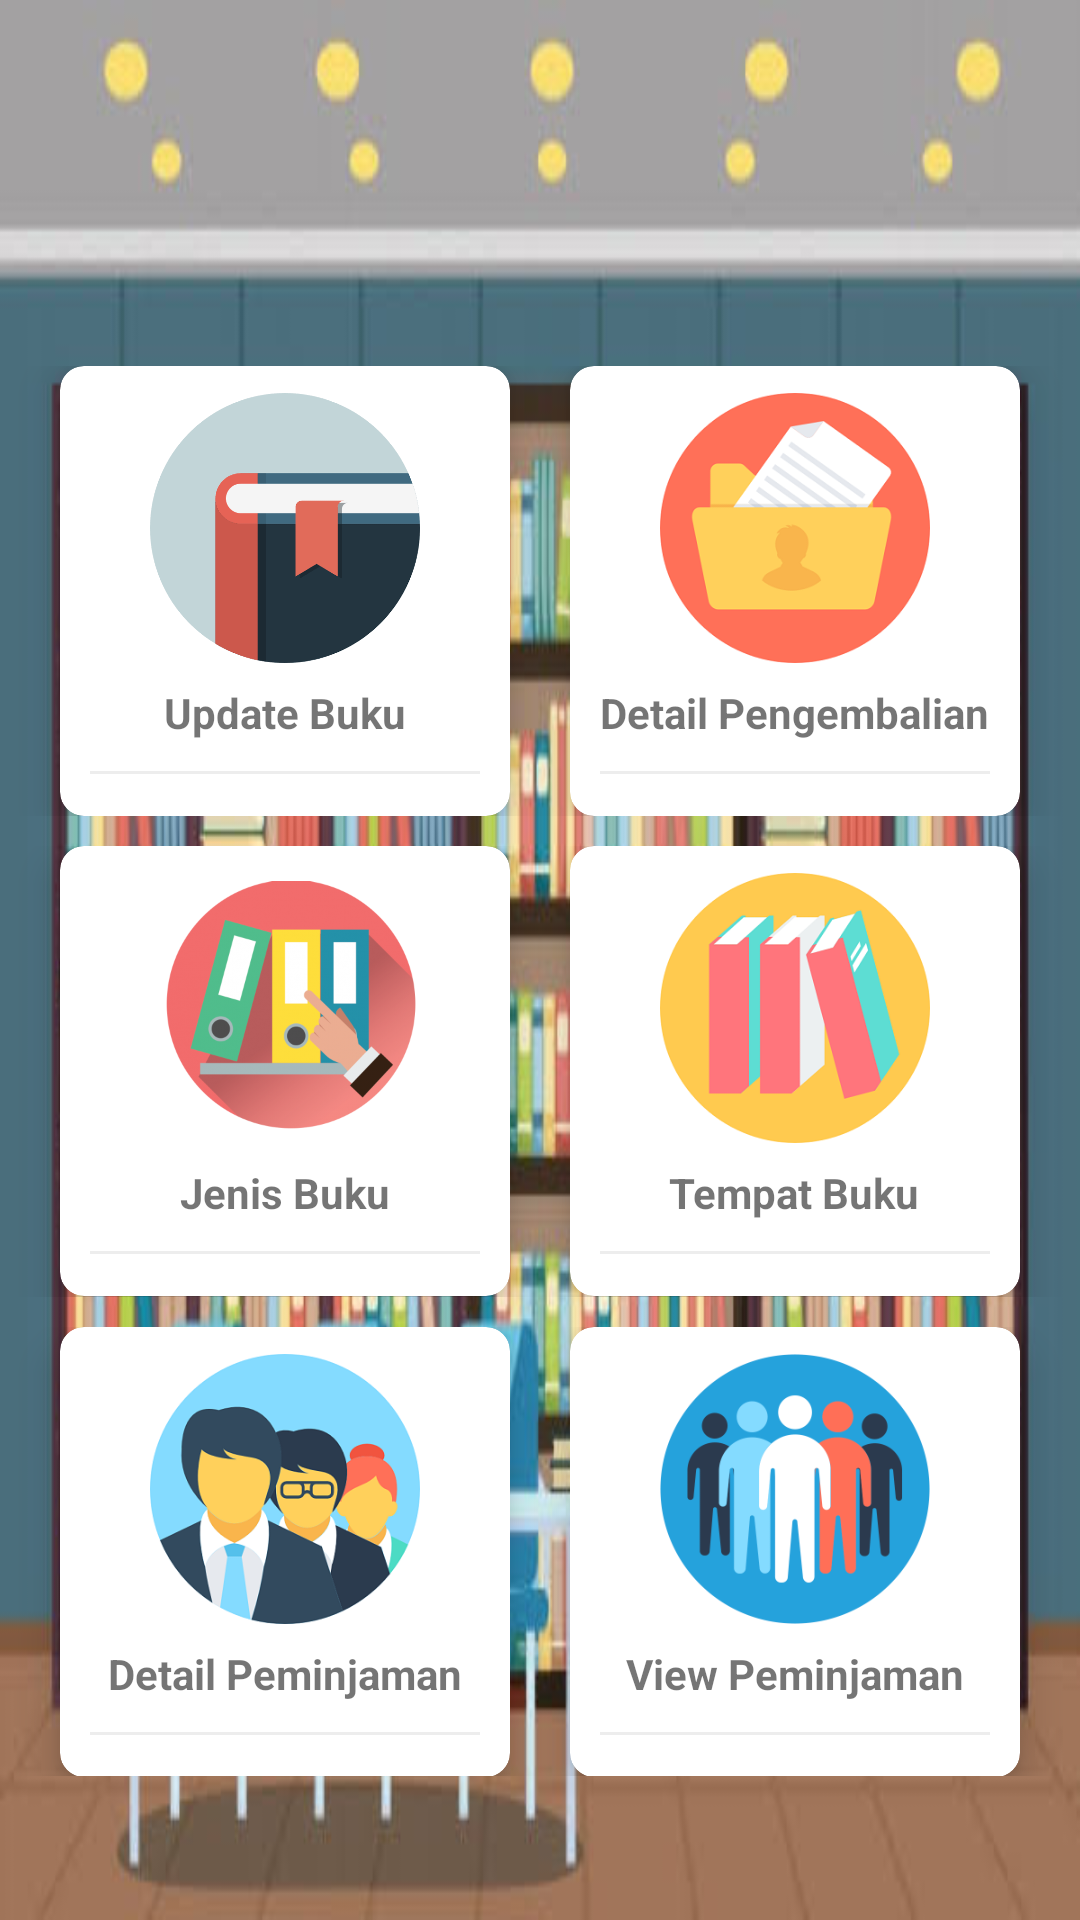

Named icons in this screenshot (1080px x 1920px) and their bounding boxes, Rect(x1, y1, x2, y2):
data: Rect(660, 393, 930, 663)
user: Rect(150, 1354, 420, 1624)
vanggota: Rect(660, 1354, 930, 1624)
